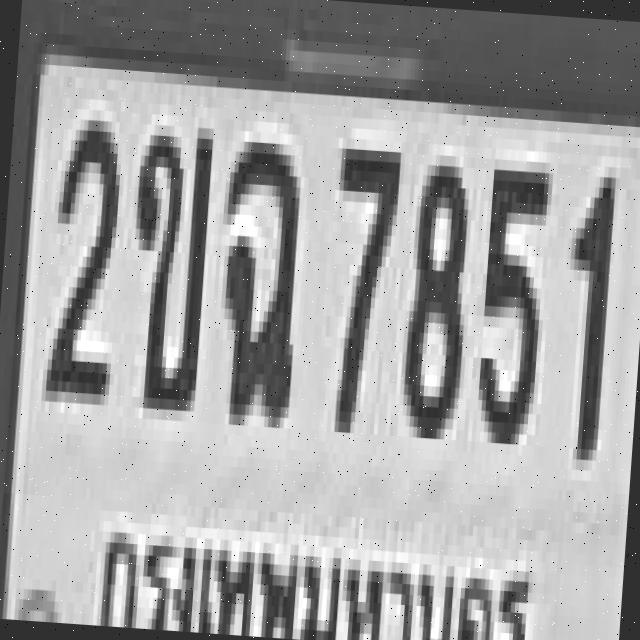1: (557, 164, 612, 450)
11KhorKhai: (120, 112, 210, 400)
18ChorChing: (210, 130, 304, 418)
2: (41, 107, 120, 394)
5: (472, 158, 546, 434)
7: (319, 137, 398, 424)
8: (398, 153, 472, 430)
